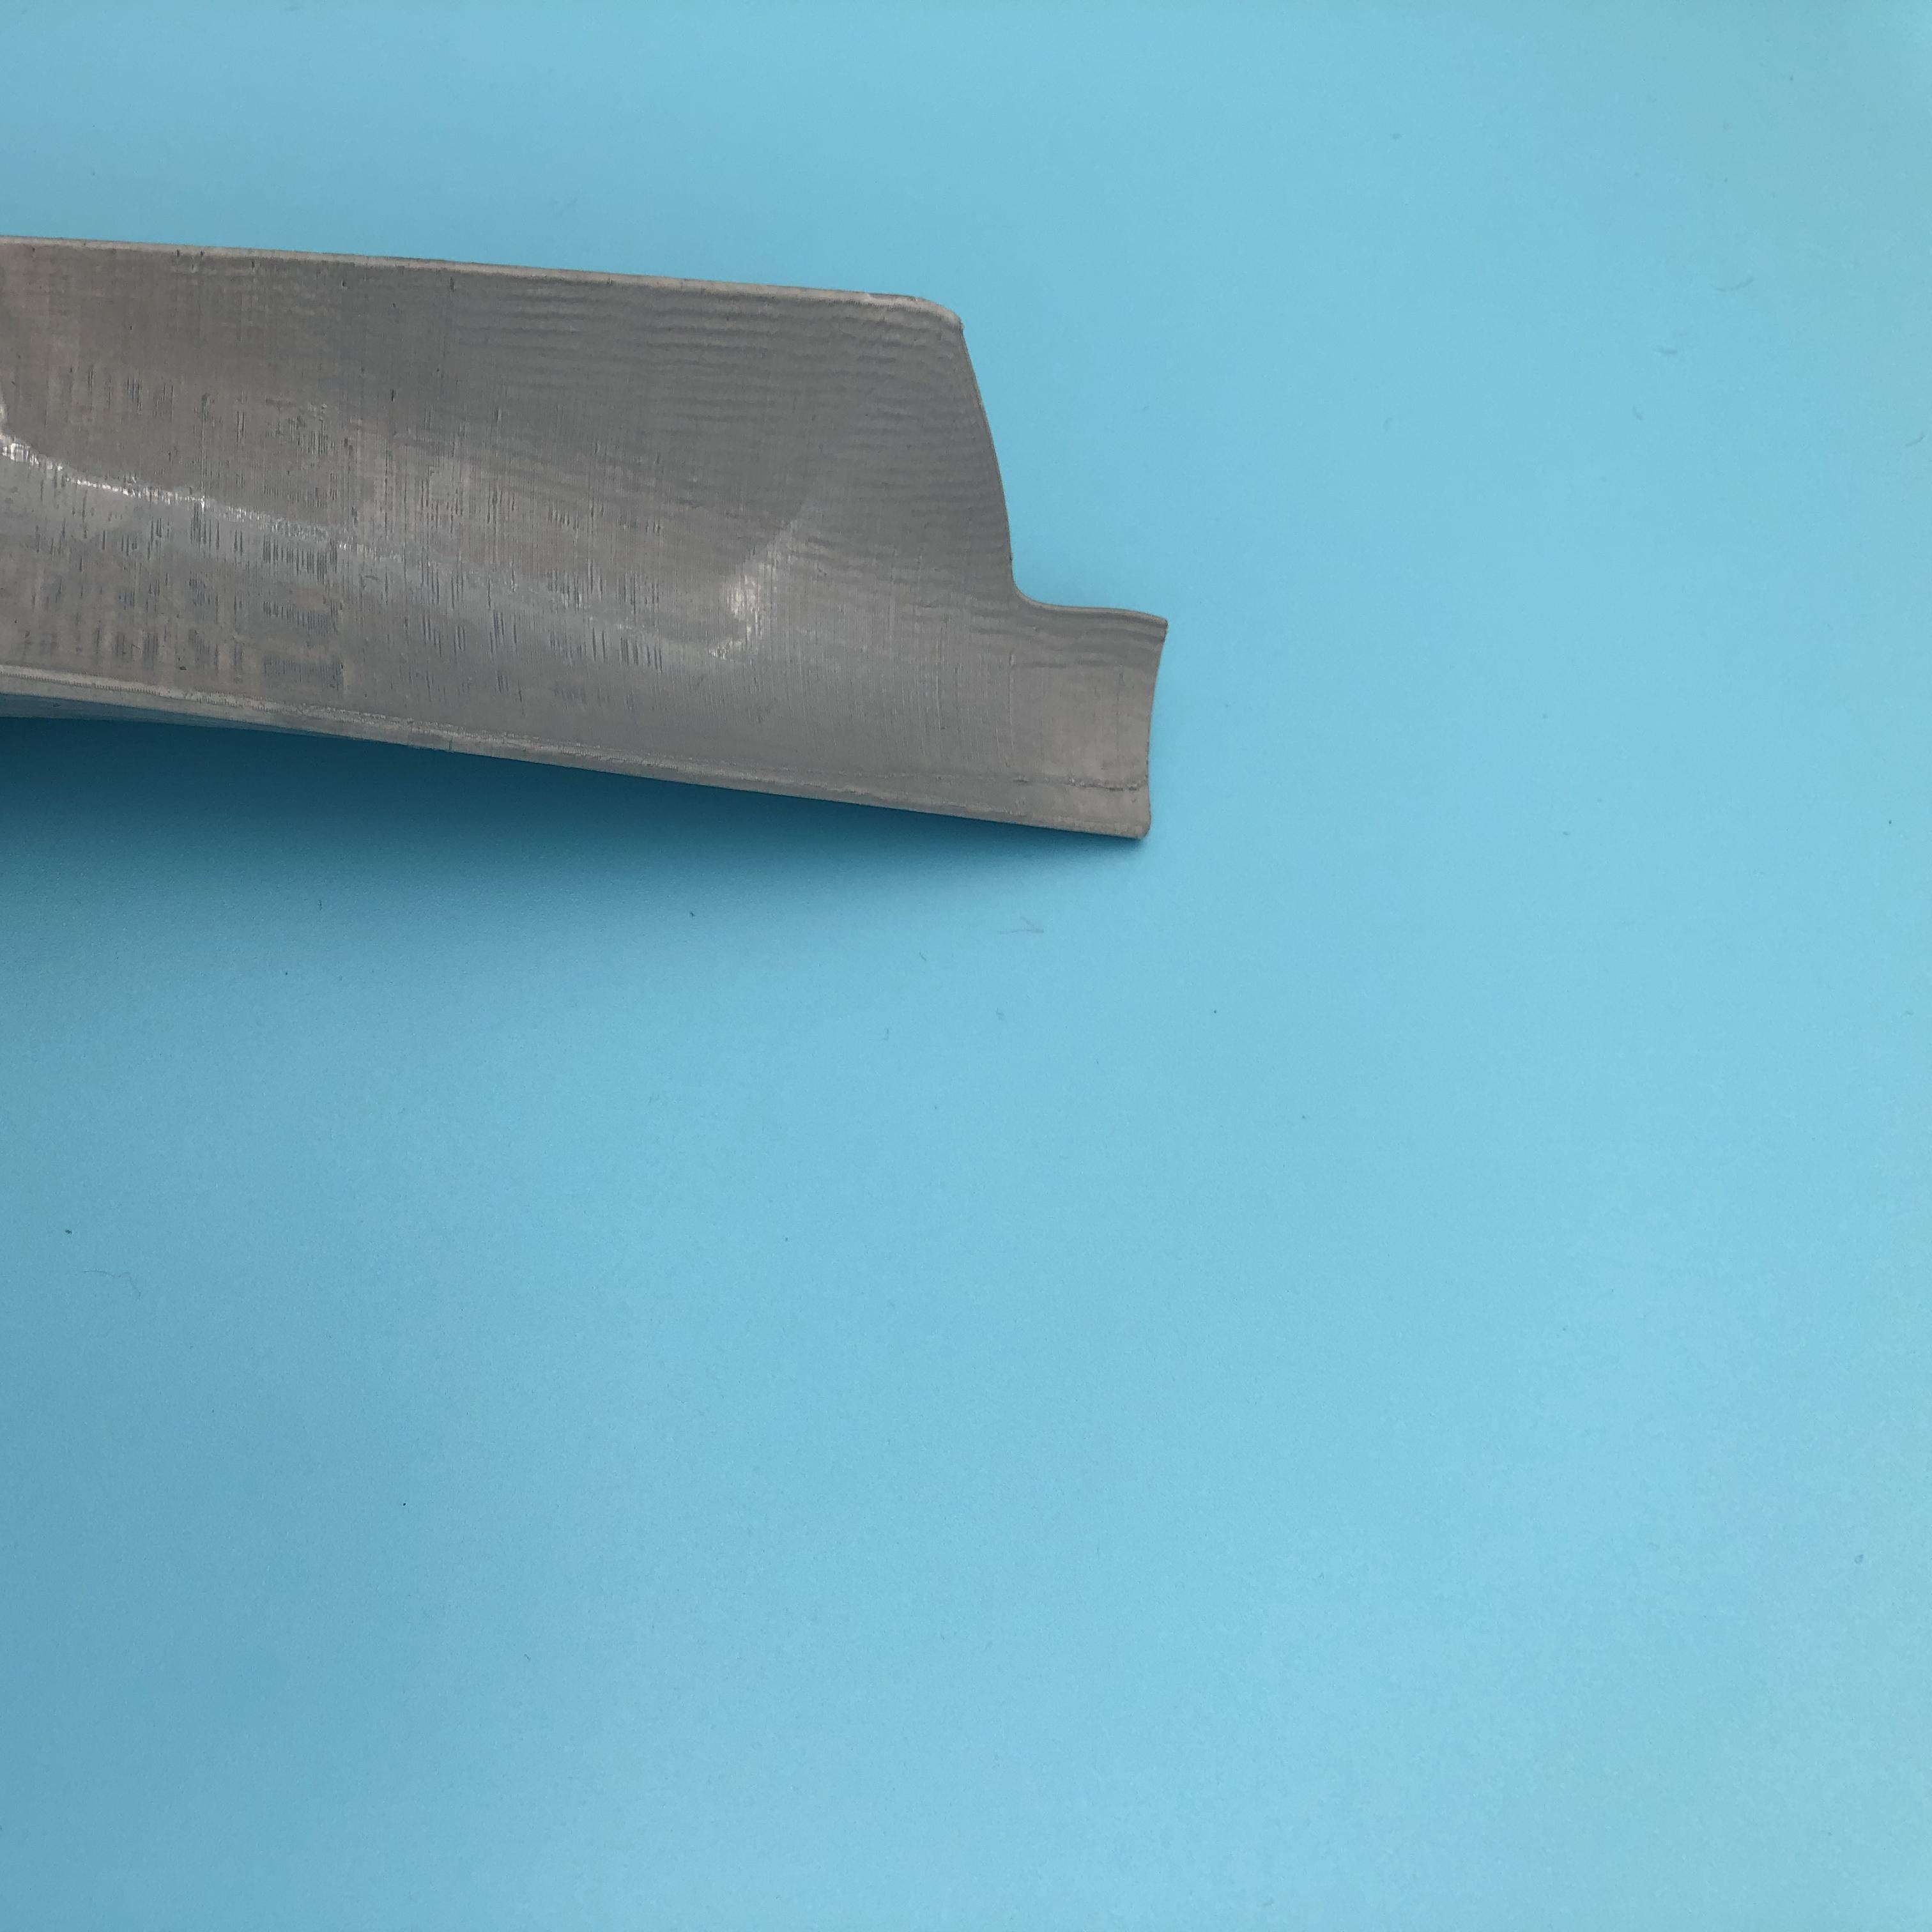fracture: (955, 311, 1178, 639)
